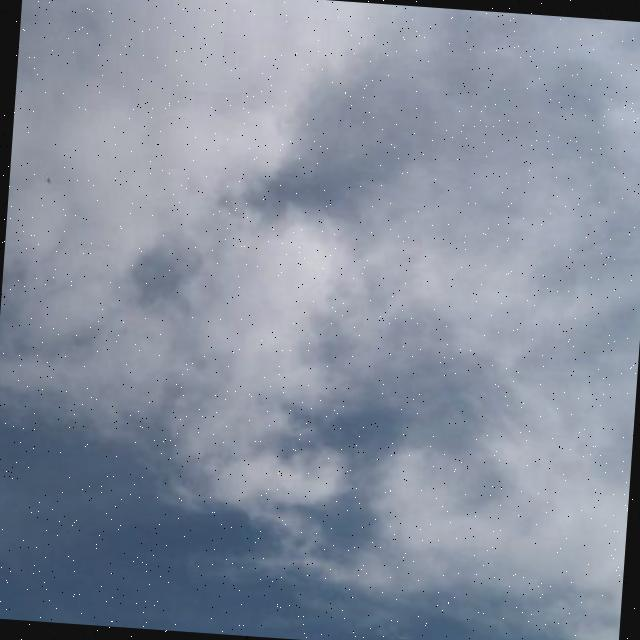Ci: (1, 1, 640, 598)
